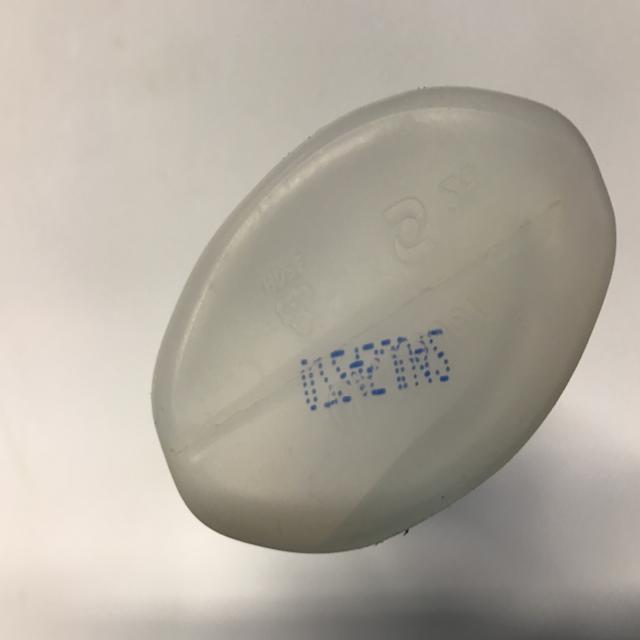plastic: (150, 84, 618, 554)
